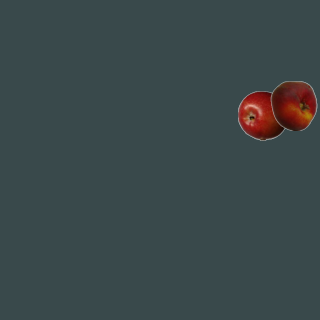Apple Braeburn: (237, 90, 287, 140)
Nectarine Flat: (268, 80, 318, 130)
